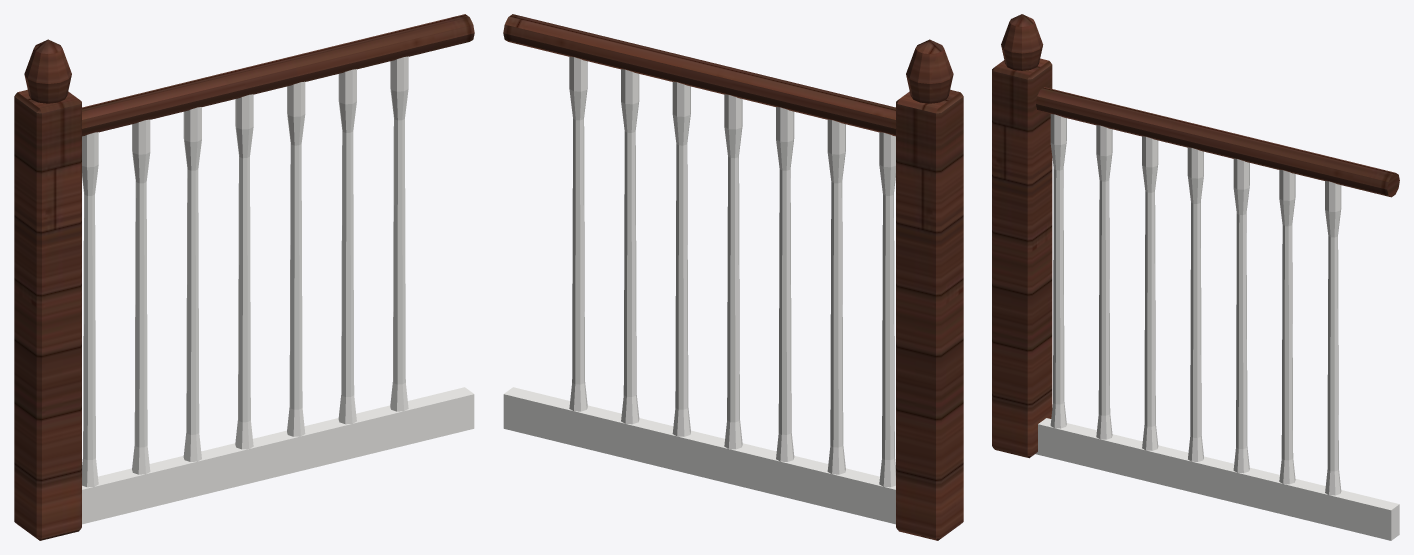
File: rail_a_r.glb
3 renders of one model, left to right at view 1: azimuth 30°, elevation 25°; view 2: azimuth 150°, elevation 25°; view 3: azimuth 330°, elevation 25°, orthographic. The views are drawn at different scales.
Parts seen in each view (by area): view 1: rail_a_r_trim, rail_a_r_mahog; view 2: rail_a_r_trim, rail_a_r_mahog; view 3: rail_a_r_trim, rail_a_r_mahog.
Boxes of the visible parts, <box> form: rail_a_r_trim: <box>82,56,474,524</box>; rail_a_r_mahog: <box>14,14,474,540</box>; rail_a_r_trim: <box>503,56,895,524</box>; rail_a_r_mahog: <box>503,14,963,540</box>; rail_a_r_trim: <box>1035,114,1399,540</box>; rail_a_r_mahog: <box>992,14,1399,458</box>.
Bounding box in the file's own units: 1.07 × 1.13 × 0.11.
2 materials, 1 textured.
